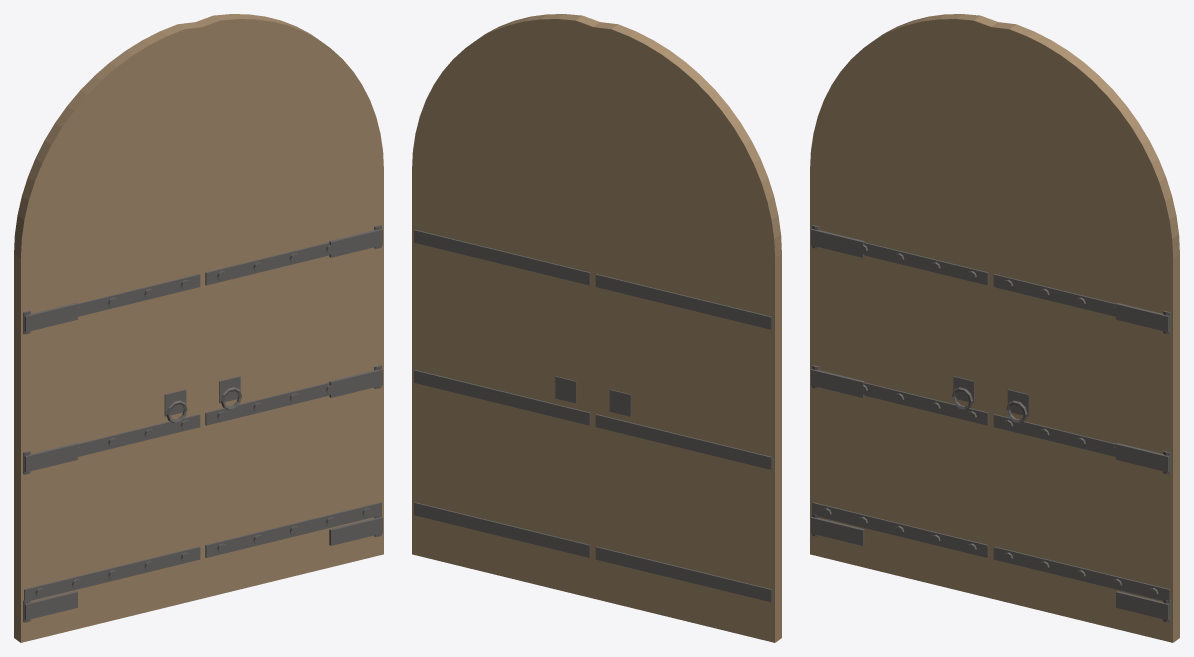
Rendered from CastleDoubleDoor.glb.
3 renders of one model, left to right at view 1: azimuth 30°, elevation 25°; view 2: azimuth 150°, elevation 25°; view 3: azimuth 330°, elevation 25°, orthographic.
Parts seen in each view (by area): view 1: castle_door_left, castle_door_right; view 2: castle_door_left, castle_door_right; view 3: castle_door_right, castle_door_left.
Boxes of the visible parts, bbox=[...] form: castle_door_left: bbox=[14, 22, 202, 642]; castle_door_right: bbox=[196, 14, 383, 598]; castle_door_left: bbox=[593, 22, 781, 642]; castle_door_right: bbox=[412, 14, 599, 598]; castle_door_right: bbox=[991, 22, 1179, 642]; castle_door_left: bbox=[810, 14, 997, 598].
Bounding box in the file's own units: 2.44 × 3.68 × 0.1214.
